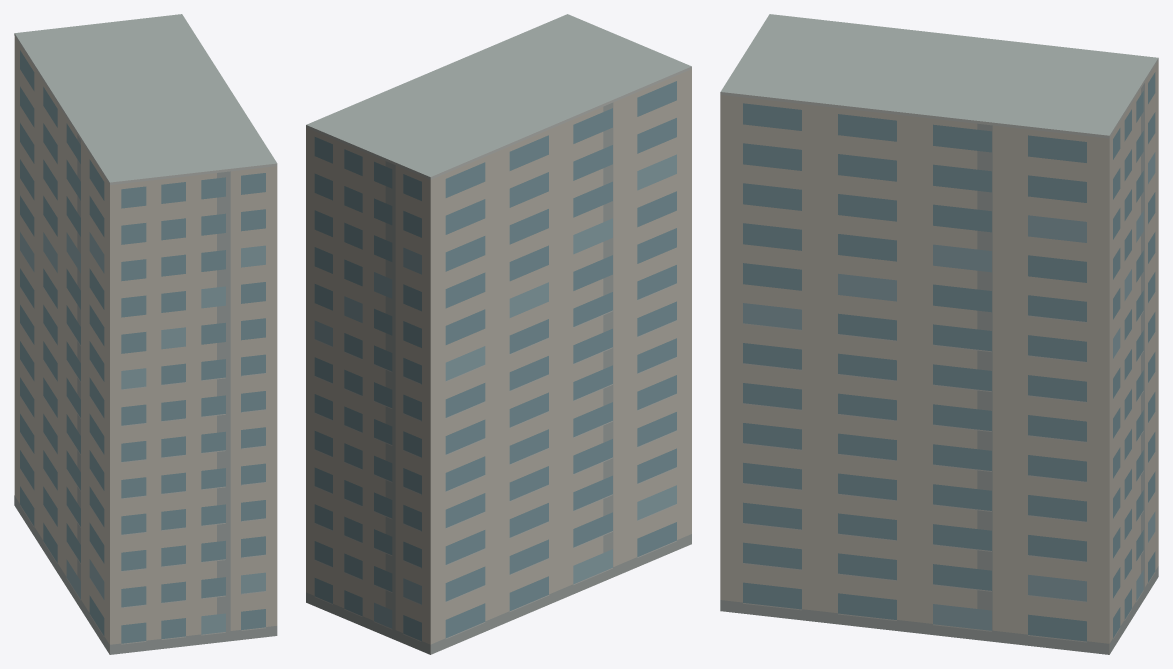
The model's file is residential-98760b8c-8c41-4871-b6e0-0f9d55da48ff.glb.
The picture shows the model from 3 angles, left to right: view 1: azimuth 30°, elevation 25°; view 2: azimuth 150°, elevation 25°; view 3: azimuth 270°, elevation 25°; orthographic projection. The views are drawn at different scales.
Visible parts, largest first — view 1: residential-98760b8c-8c41-4871-b6e0-0f9d55da48ff.tmp; view 2: residential-98760b8c-8c41-4871-b6e0-0f9d55da48ff.tmp; view 3: residential-98760b8c-8c41-4871-b6e0-0f9d55da48ff.tmp.
Boxes of the visible parts, <box> form: residential-98760b8c-8c41-4871-b6e0-0f9d55da48ff.tmp: <box>14,14,277,654</box>; residential-98760b8c-8c41-4871-b6e0-0f9d55da48ff.tmp: <box>306,14,691,654</box>; residential-98760b8c-8c41-4871-b6e0-0f9d55da48ff.tmp: <box>720,14,1158,654</box>.
Bounding box in the file's own units: 22.13 × 44 × 33.65.
